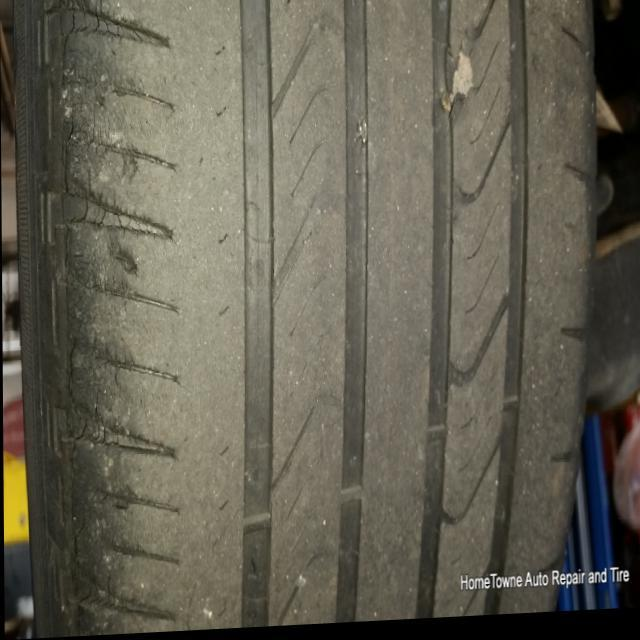Flat spots: (69, 8, 434, 635)
